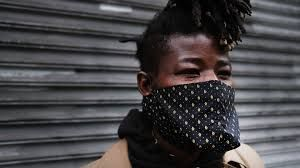with-mask: (133, 18, 253, 160)
